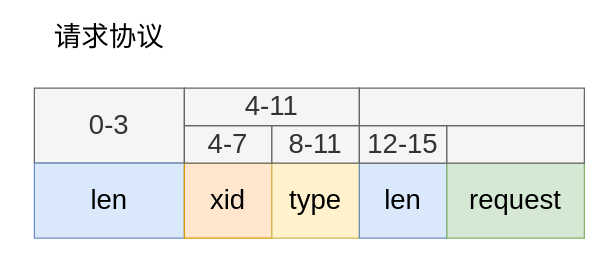
The diagram is 606 pixels wide and 260 high, and some of its shapes have lost their labels. Each missing label, with the centre of its shape:
12-n: the point at 471,106
15-n: the point at 515,143
